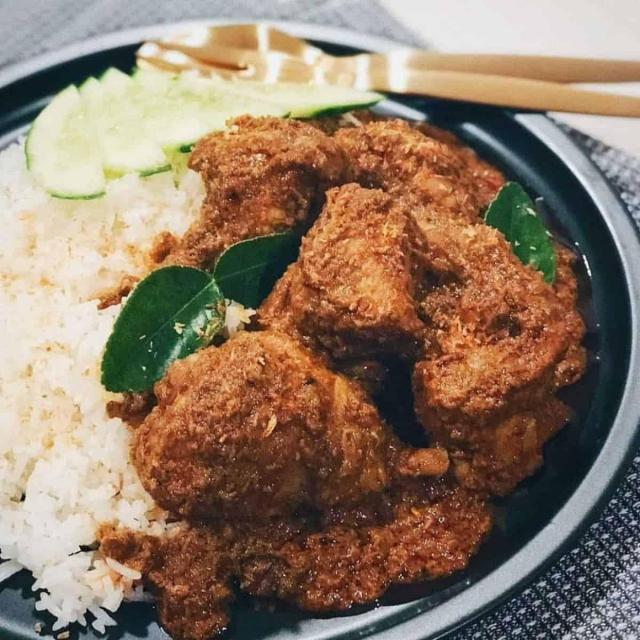Rendang: (135, 112, 604, 637)
